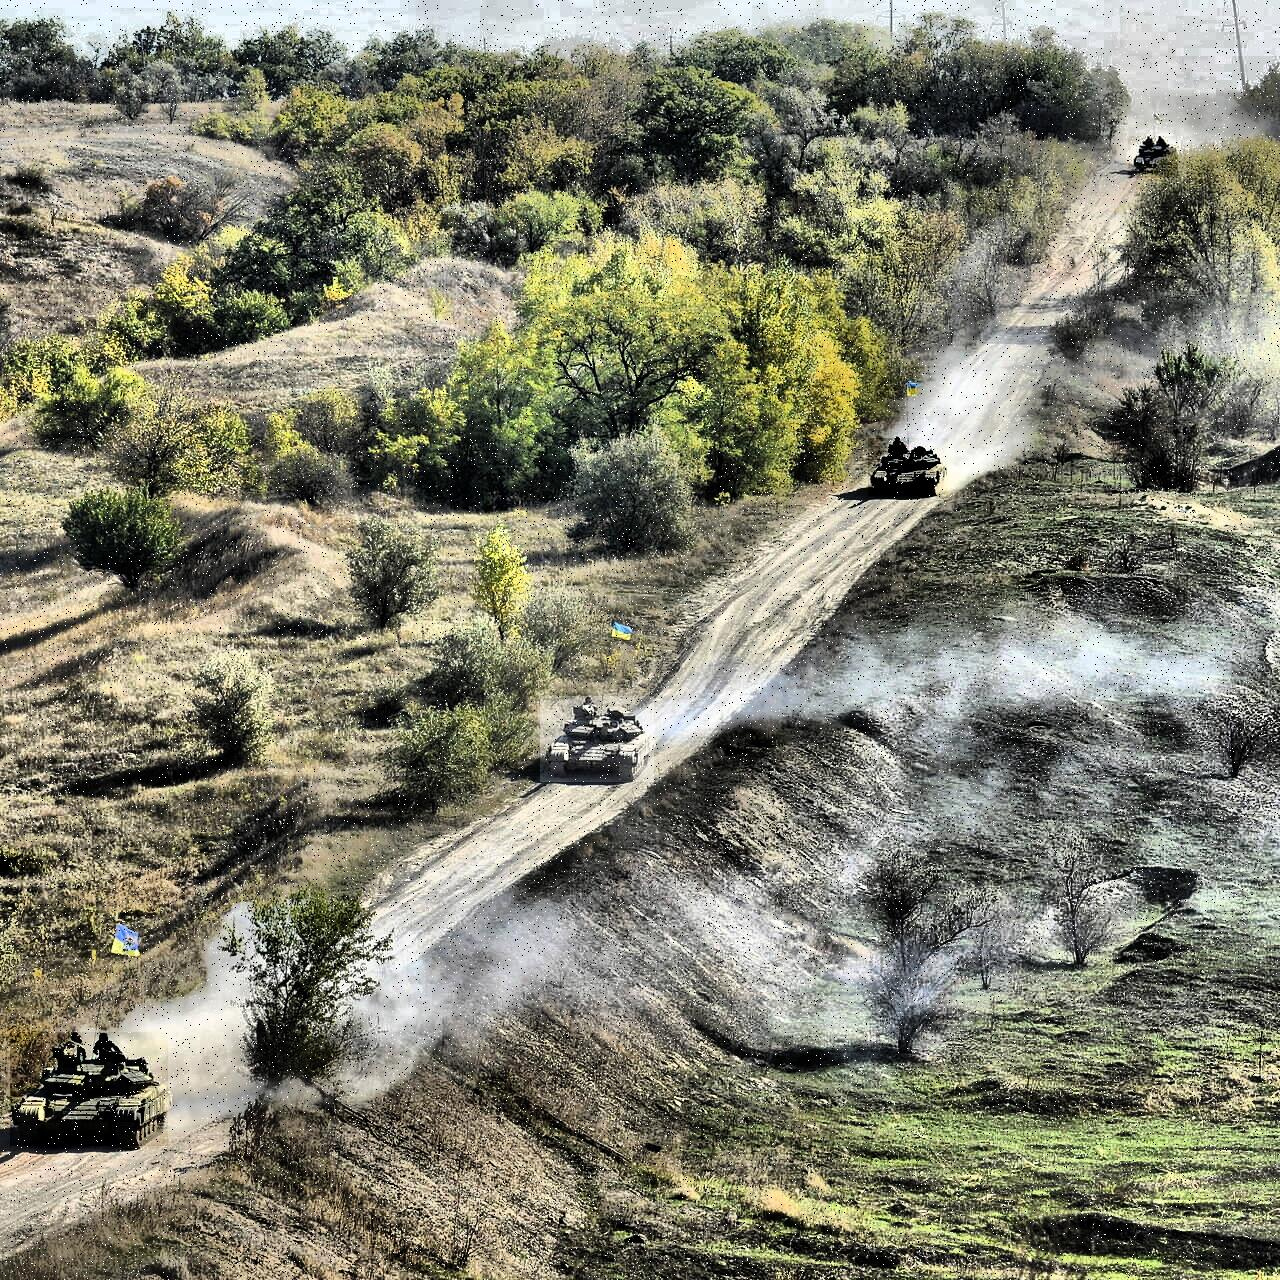military-vehicle: (11, 1032, 168, 1146), (540, 696, 654, 782), (869, 438, 948, 496), (1128, 136, 1178, 178)
